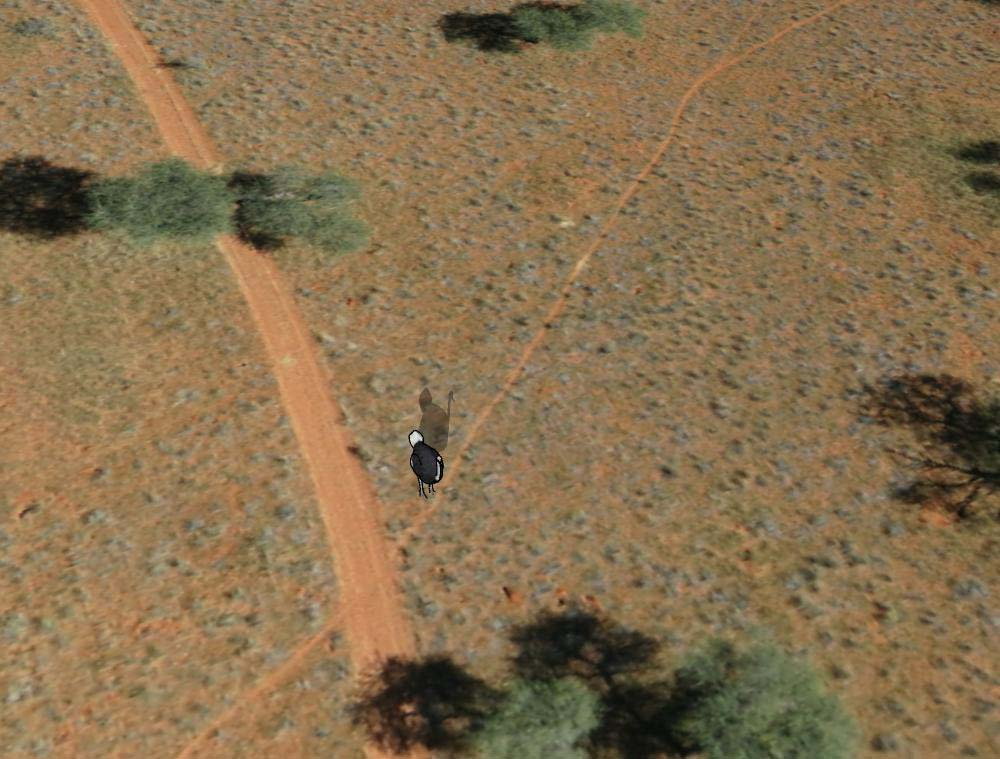springbok: (403, 430, 451, 506)
